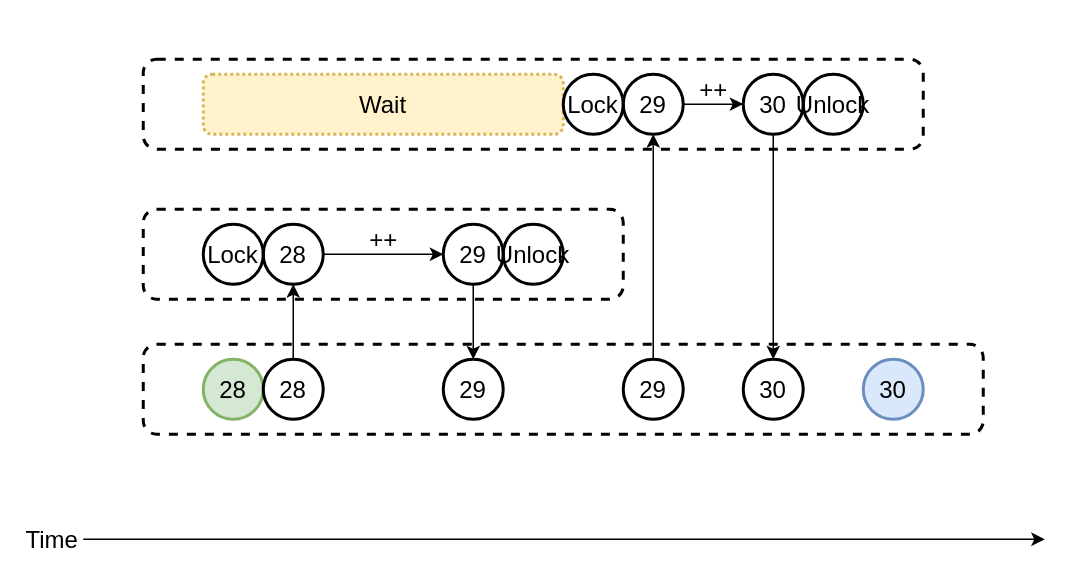
Image size: 1083x579. Some labels were removed from this diagram. Each missing label, with the box of its shape:
goroutine1: (141, 207, 624, 300)
goroutine2: (141, 57, 924, 150)
total: (141, 342, 984, 435)
